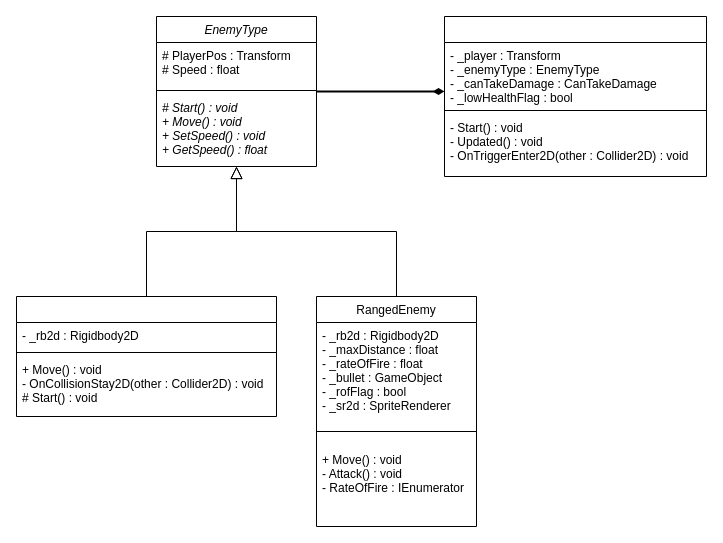
Some shapes in this 723 by 543 pixel diagram are drawn without their labels. Each missing label, with the box of its shape:
EnemyBehavior: (444, 16, 706, 176)
MeleeEnemy: (16, 296, 276, 416)
